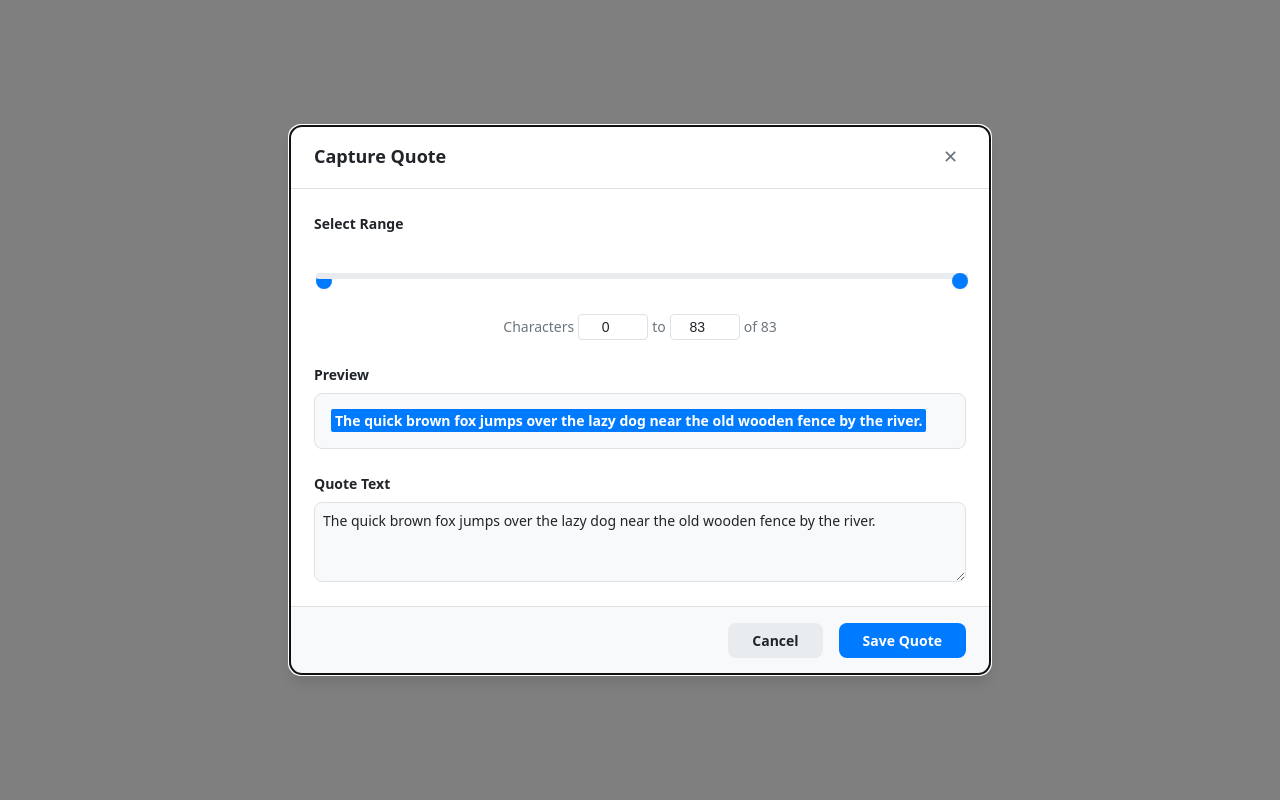
Test: QuoteCaptureModal — save re-derives start/end from the final text › rejects an edit to empty text visibly, without persisting a quote
The width and height of the screenshot is (1280, 800).
Clear the text box with placeholder "Edit the quote text here...". click: (640, 542)
box: x1=314 y1=502 x2=966 y2=582
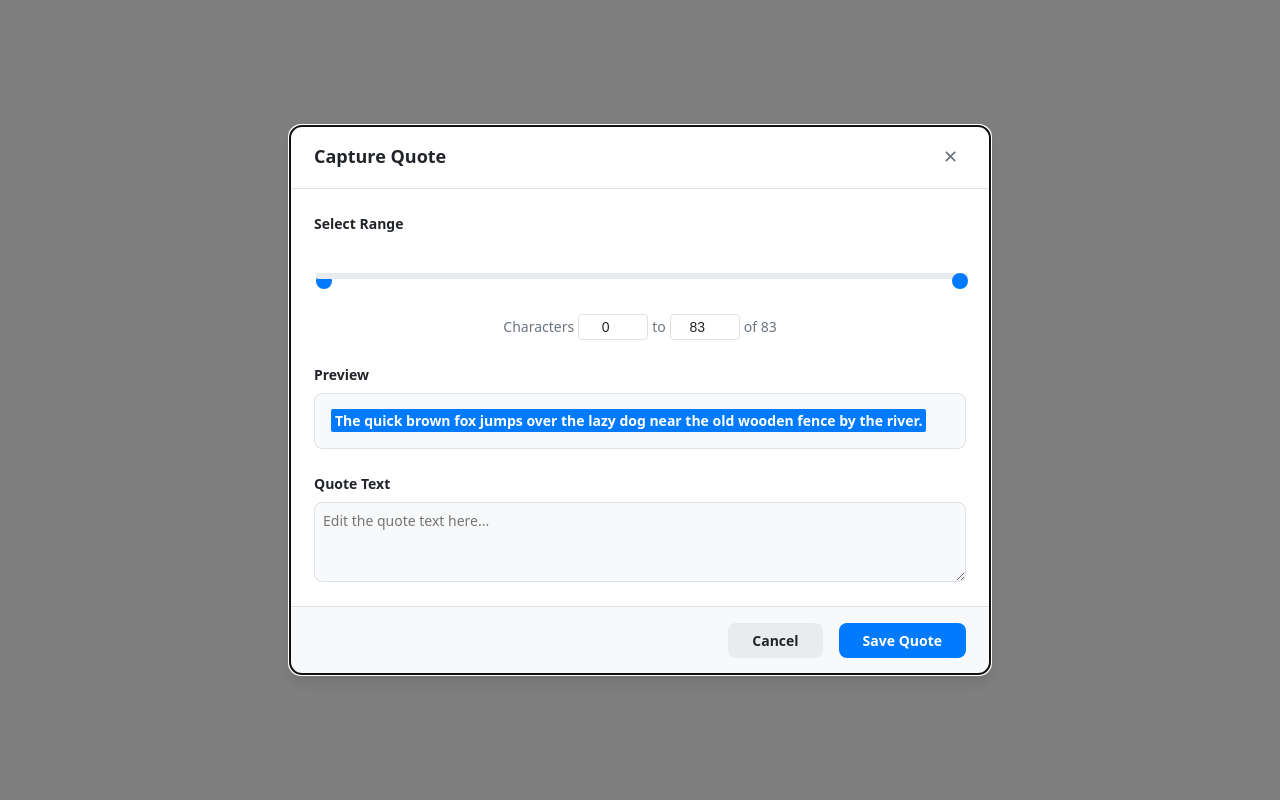
Click the button "Save Quote". click: click(902, 641)
box: x1=839 y1=623 x2=966 y2=658
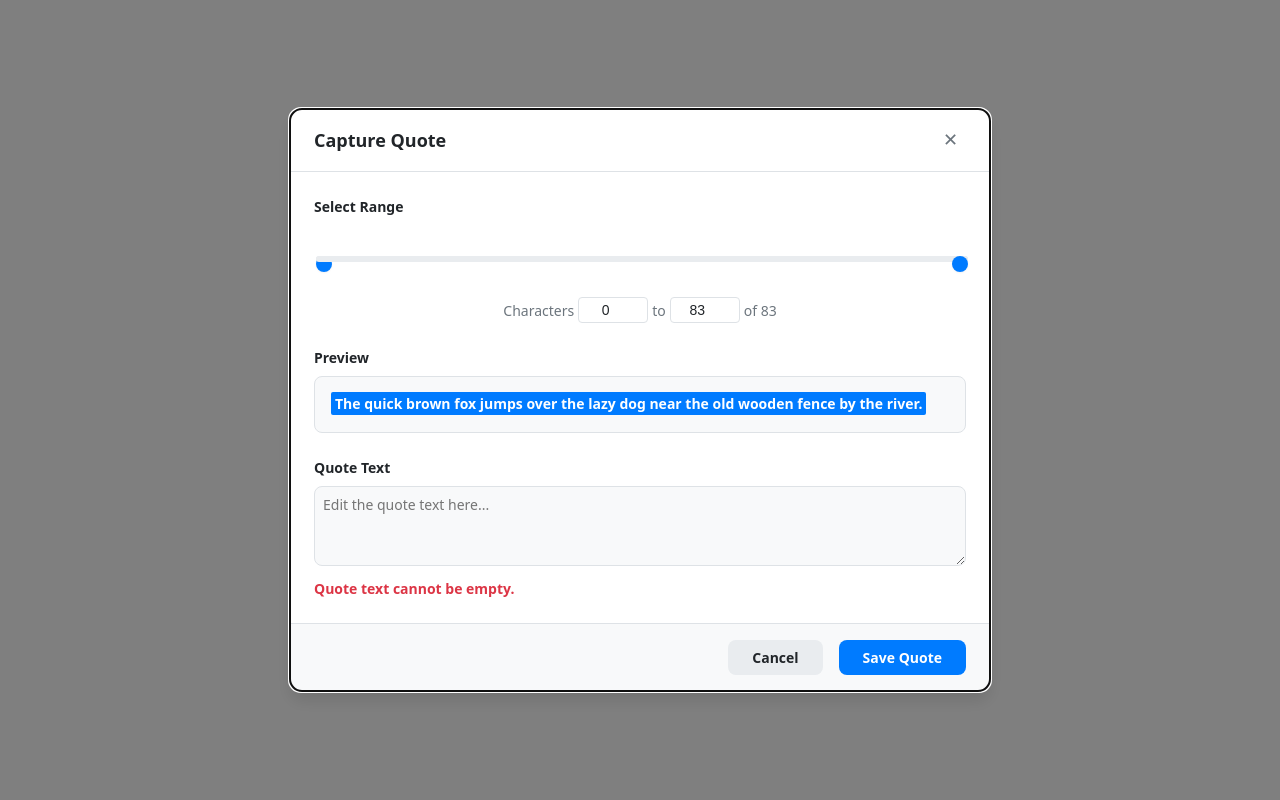
Expected: the text "Quote text cannot be empty." is shown, x1=314 y1=579 x2=514 y2=598
